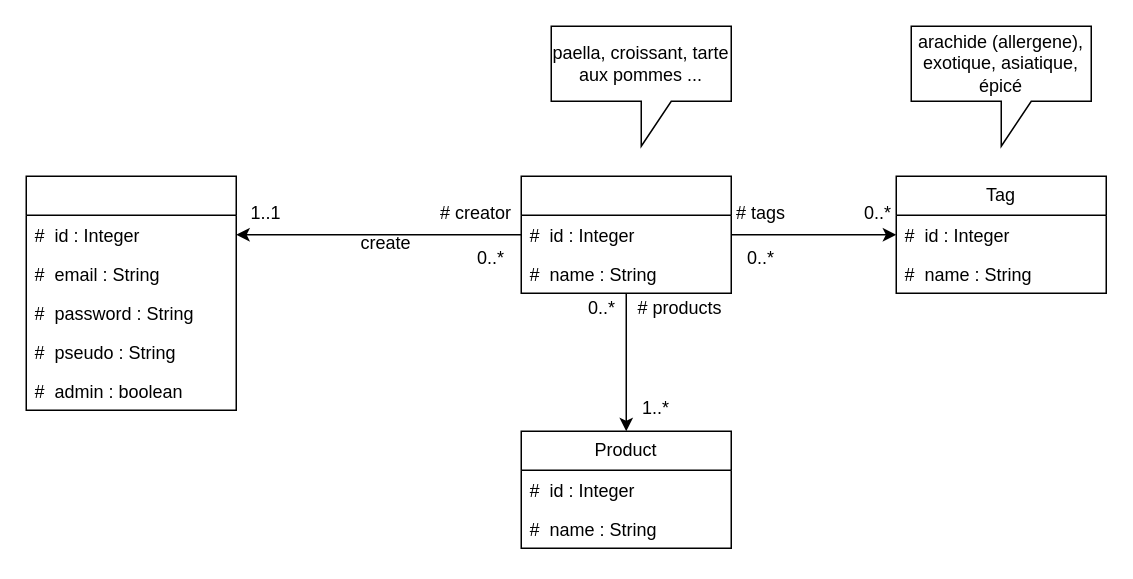
The diagram is 1133 pixels wide and 579 high, and some of its shapes have lost their labels. Each missing label, with the box of its shape:
AppUser: (25, 175, 236, 410)
Recipe: (520, 175, 731, 293)
